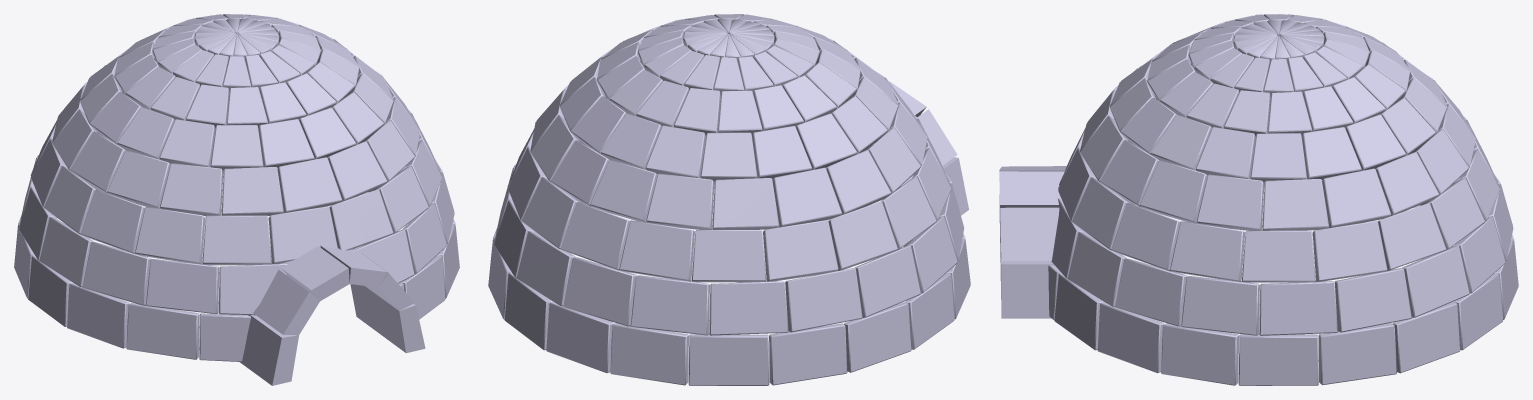
File: Igloo.fbx
The picture shows the model from 3 angles, left to right: view 1: azimuth 30°, elevation 25°; view 2: azimuth 150°, elevation 25°; view 3: azimuth 270°, elevation 25°; orthographic projection. The views are drawn at different scales.
Visible parts, largest first — view 1: Sphere001_2_Mat_0; view 2: Sphere001_2_Mat_0; view 3: Sphere001_2_Mat_0.
Part boxes in pixels (<box>): Sphere001_2_Mat_0: <box>14,14,459,385</box>; Sphere001_2_Mat_0: <box>488,14,970,385</box>; Sphere001_2_Mat_0: <box>999,14,1518,385</box>.
Size of the model in its own units: 666 by 394 by 731.
